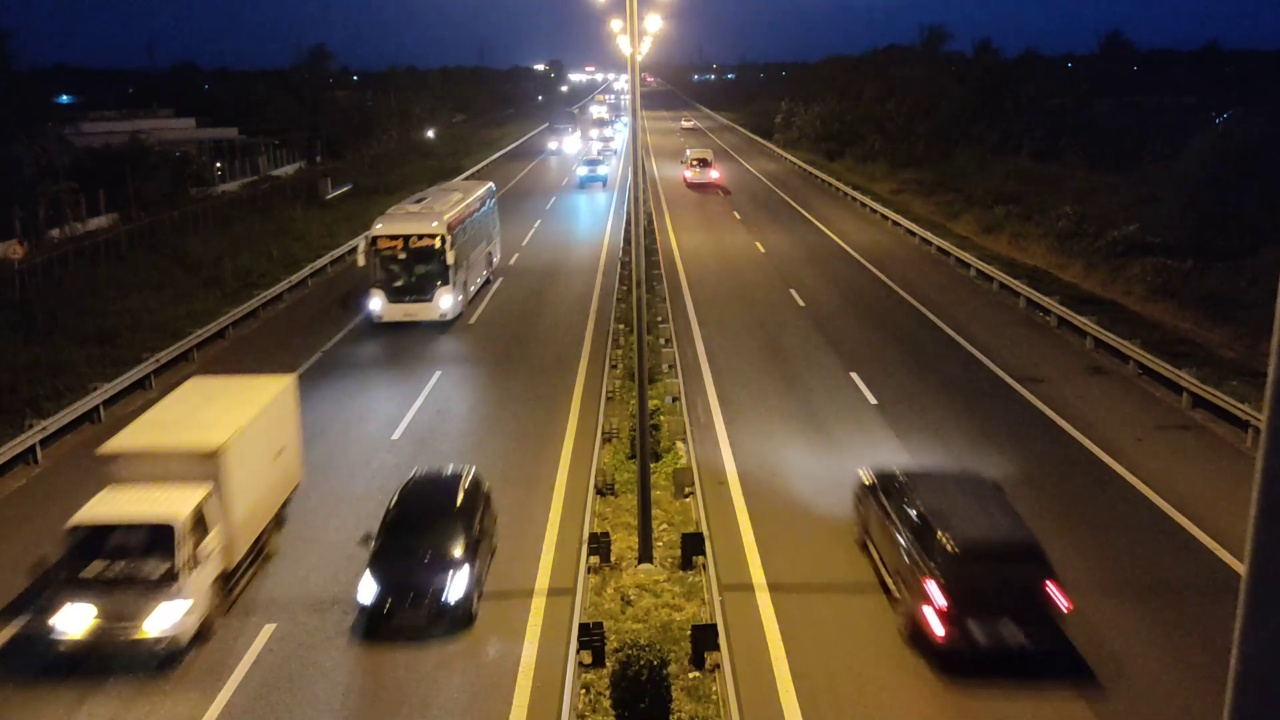bus: (362, 178, 502, 325)
car: (851, 463, 1079, 675), (351, 461, 500, 639), (573, 157, 611, 189)
truck: (38, 370, 307, 672)
